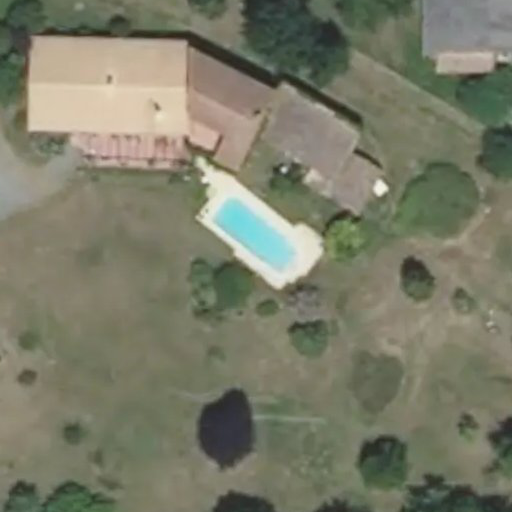pool: (211, 226, 301, 258)
